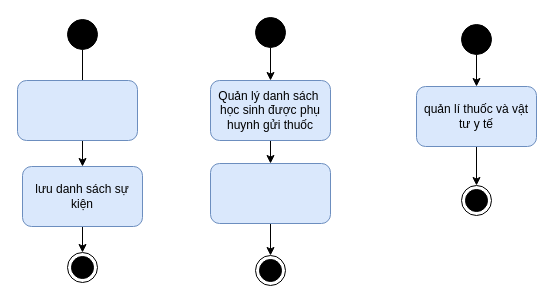
Some shapes in this 554 by 303 pixel diagram are drawn without their labels. Here are the shapes that lost their labels. From the top down, the centre of each, then its label:
At (x=77, y=110): "ghi nhận sự kiện".
At (x=270, y=193): "Theo dõi và xác nhận đã cho uống thuốc".
